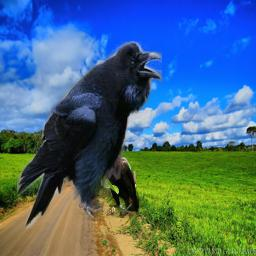Crow: (17, 41, 162, 229), (94, 136, 139, 218)
